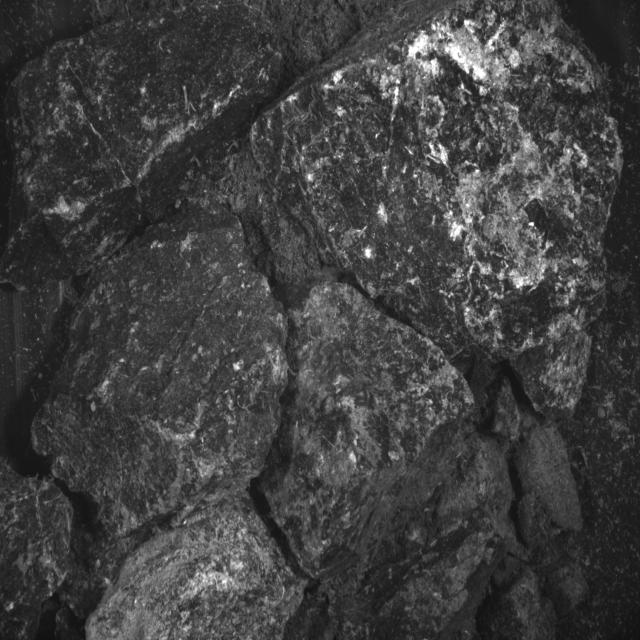Stones: (219, 3, 622, 417), (262, 284, 512, 639), (34, 210, 289, 537), (1, 6, 286, 289), (87, 493, 306, 640), (1, 460, 74, 640), (516, 427, 584, 533)
